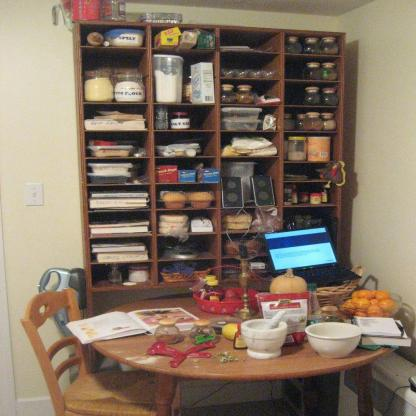board: (262, 225, 360, 287), (154, 55, 182, 102), (113, 72, 145, 100), (82, 72, 113, 100), (106, 28, 143, 48), (151, 319, 181, 342), (190, 320, 215, 347), (306, 284, 322, 324), (289, 136, 308, 162), (234, 85, 256, 107), (300, 111, 324, 131), (155, 103, 170, 131), (200, 274, 216, 299), (322, 83, 340, 105), (302, 86, 320, 107), (282, 36, 304, 53), (206, 281, 224, 301), (322, 113, 340, 132), (302, 62, 322, 79), (322, 36, 339, 55), (304, 36, 321, 54), (173, 111, 190, 128), (322, 63, 338, 81), (285, 112, 297, 132), (222, 87, 236, 104), (282, 183, 292, 205), (321, 182, 330, 202), (292, 184, 300, 204), (312, 192, 323, 204), (300, 189, 309, 202)
